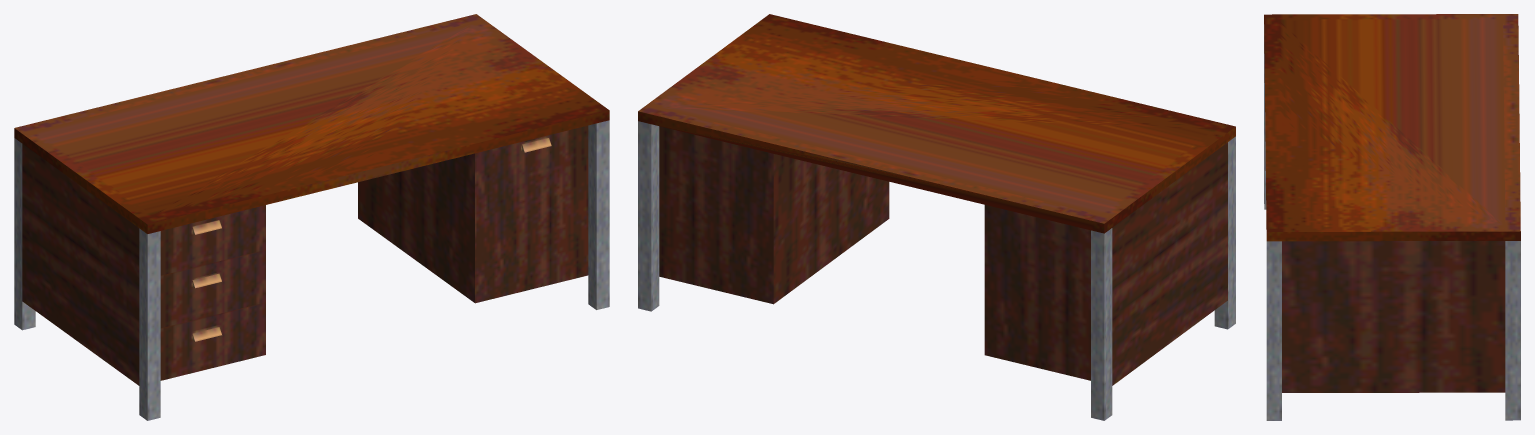
The model's file is desk1_alt.obj.
3 views of the same model, side by side, from view 1: azimuth 30°, elevation 25°; view 2: azimuth 150°, elevation 25°; view 3: azimuth 270°, elevation 25° (orthographic). The views are drawn at different scales.
Visible parts, largest first — view 1: desk1_alt; view 2: desk1_alt; view 3: desk1_alt.
Boxes of the visible parts, x1,y1,x2,y2 form: desk1_alt: (14, 14, 609, 420); desk1_alt: (638, 14, 1235, 420); desk1_alt: (1264, 14, 1520, 420).
Bounding box in the file's own units: 2.21 × 0.8911 × 1.1.
